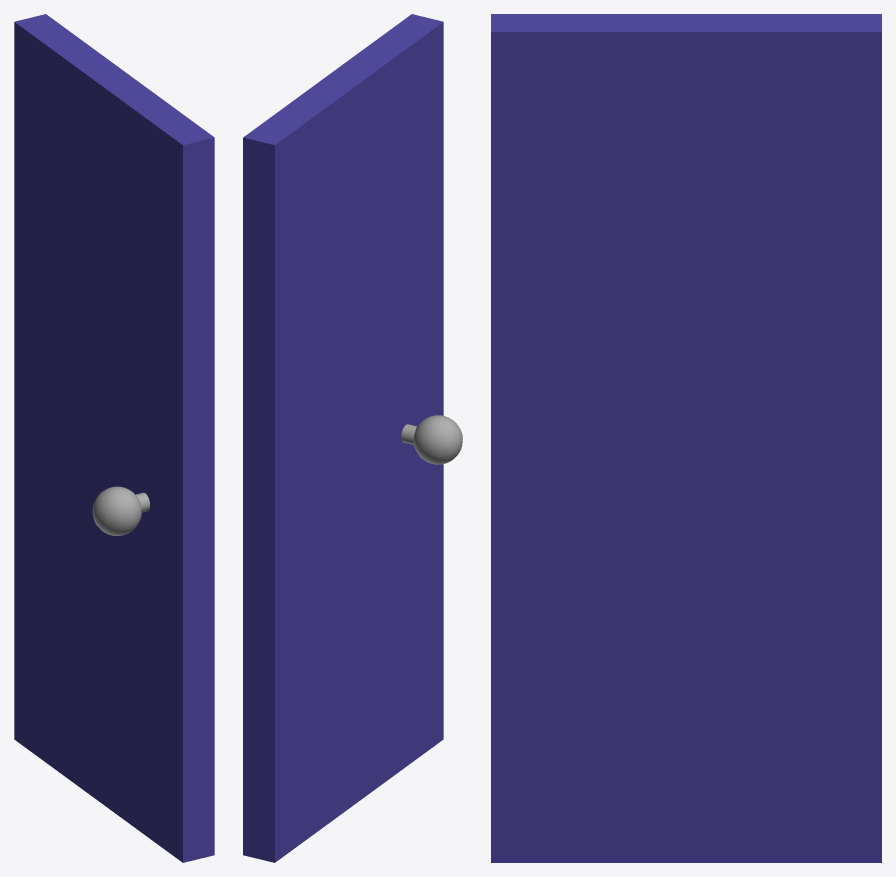
File: doorAnimated.fbx
3 views of the same model, side by side, from view 1: azimuth 30°, elevation 25°; view 2: azimuth 150°, elevation 25°; view 3: azimuth 270°, elevation 25° (orthographic). The views are drawn at different scales.
Visible parts, largest first — view 1: pCube16; view 2: pCube16; view 3: pCube16.
Boxes of the visible parts, x1,y1,x2,y2 form: pCube16: (14,14,214,862); pCube16: (243,14,462,862); pCube16: (491,14,881,862).
Bounding box in the file's own units: 1.37 × 11.3 × 4.82.
